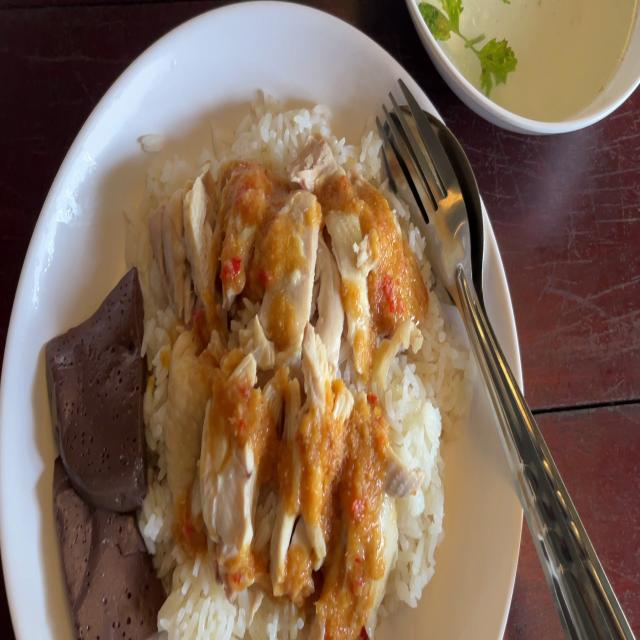chicken_rice: (156, 164, 403, 589)
noodle: (40, 266, 142, 502), (56, 463, 156, 640)
